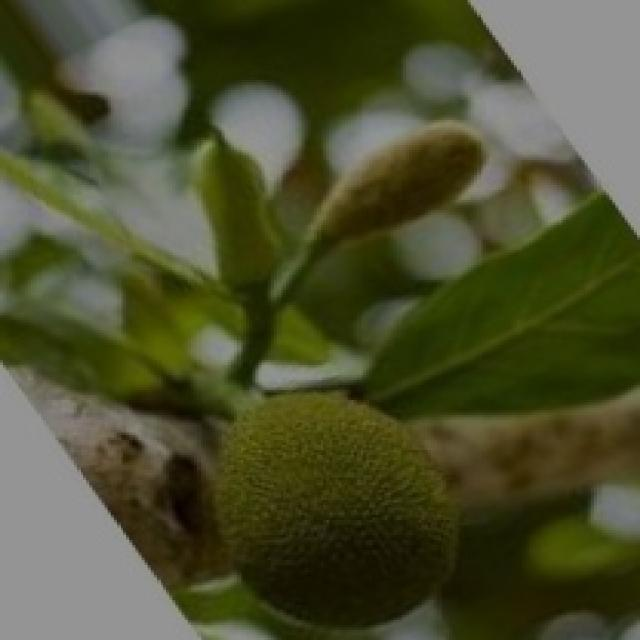Fruit: (172, 355, 490, 640)
